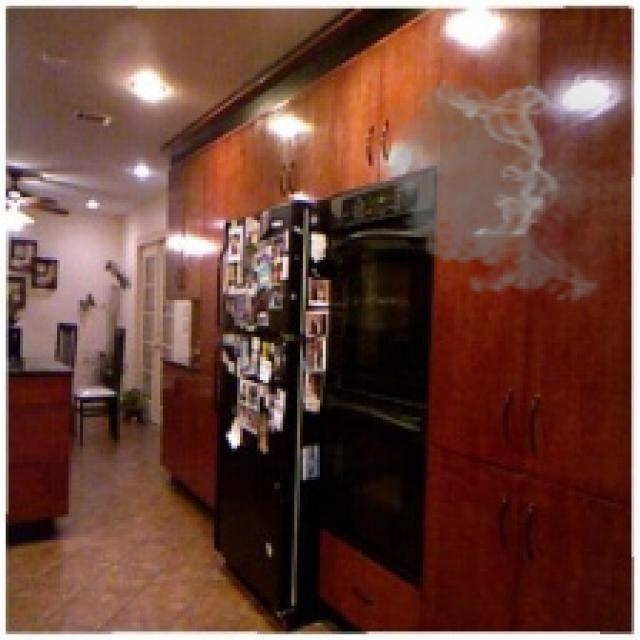Smoke: (366, 77, 632, 309)
